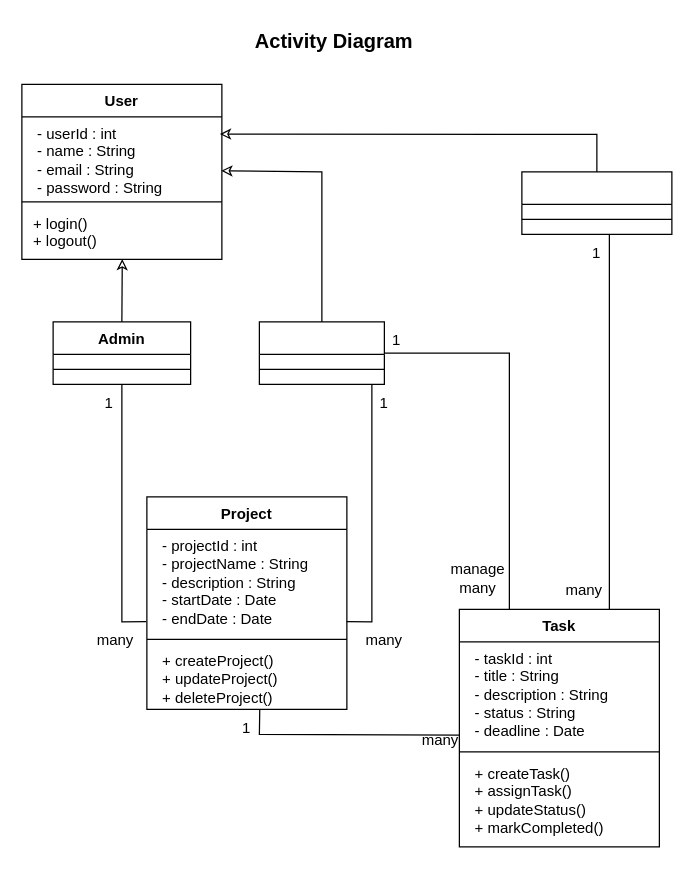
Some shapes in this 694 by 871 pixel diagram are drawn without their labels. Here are the shapes that lost their labels. From the top down, the box of each, then its label:
(521, 171, 672, 234): Team Member
(258, 321, 384, 384): Manager
